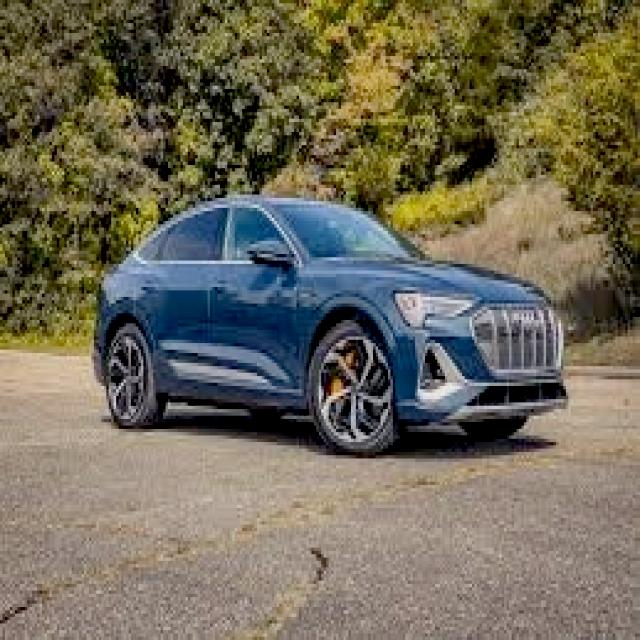blue: (106, 190, 582, 507)
